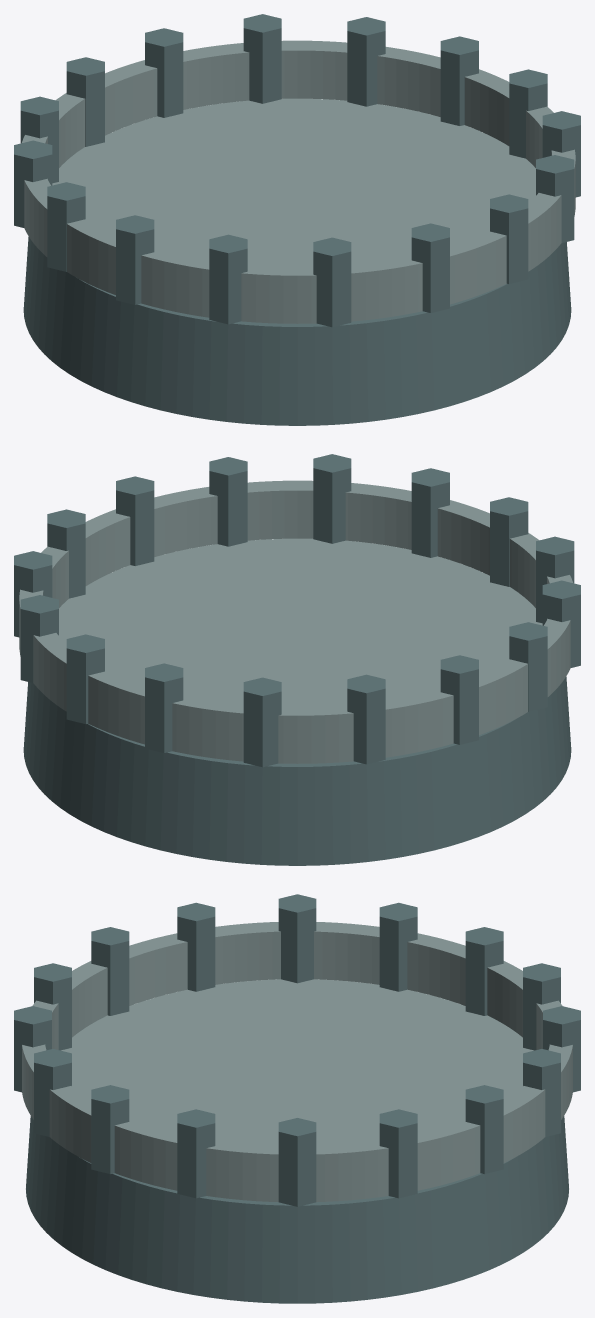
The model's file is SM_R02B_TeamA_Lobby.fbx.
The picture shows the model from 3 angles, top to bottom: view 1: azimuth 30°, elevation 25°; view 2: azimuth 150°, elevation 25°; view 3: azimuth 270°, elevation 25°; orthographic projection.
Parts seen in each view (by area): view 1: SM_R02B_TeamA_Lobby; view 2: SM_R02B_TeamA_Lobby; view 3: SM_R02B_TeamA_Lobby.
Part boxes in pixels (<box>): SM_R02B_TeamA_Lobby: <box>14,14,580,425</box>; SM_R02B_TeamA_Lobby: <box>14,454,580,865</box>; SM_R02B_TeamA_Lobby: <box>14,894,580,1303</box>.
Size of the model in its own units: 13.6 by 13.46 by 4.55.
